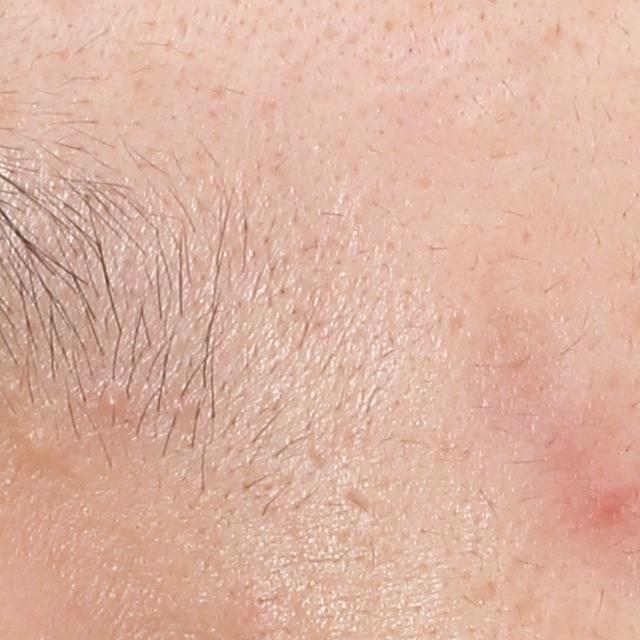atrophic_scar: (336, 485, 378, 522), (256, 98, 283, 138), (446, 308, 469, 336), (173, 11, 191, 44)
comedo: (15, 429, 61, 472), (99, 386, 128, 414)
